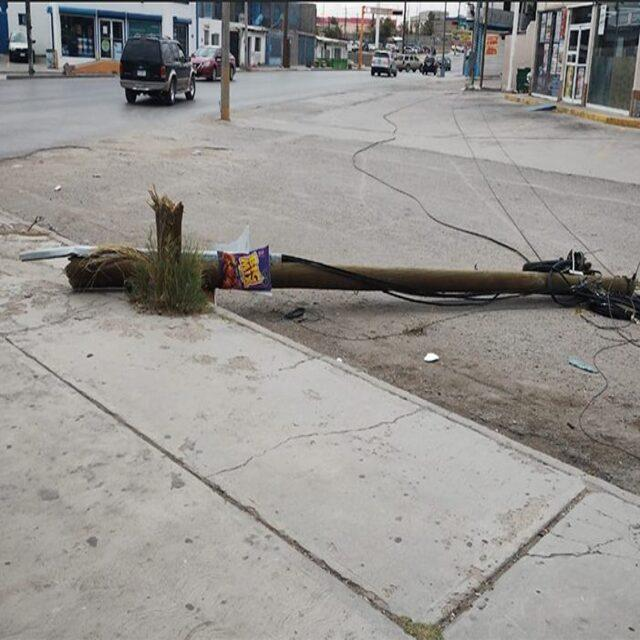Inclined Pole: (72, 182, 640, 340)
